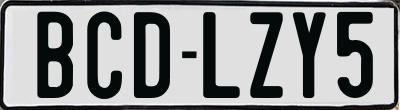5: (337, 12, 375, 98)
B: (37, 12, 77, 102)
C: (84, 9, 124, 101)
D: (134, 10, 171, 99)
L: (203, 9, 242, 95)
Y: (293, 9, 328, 97)
Z: (250, 11, 286, 98)
